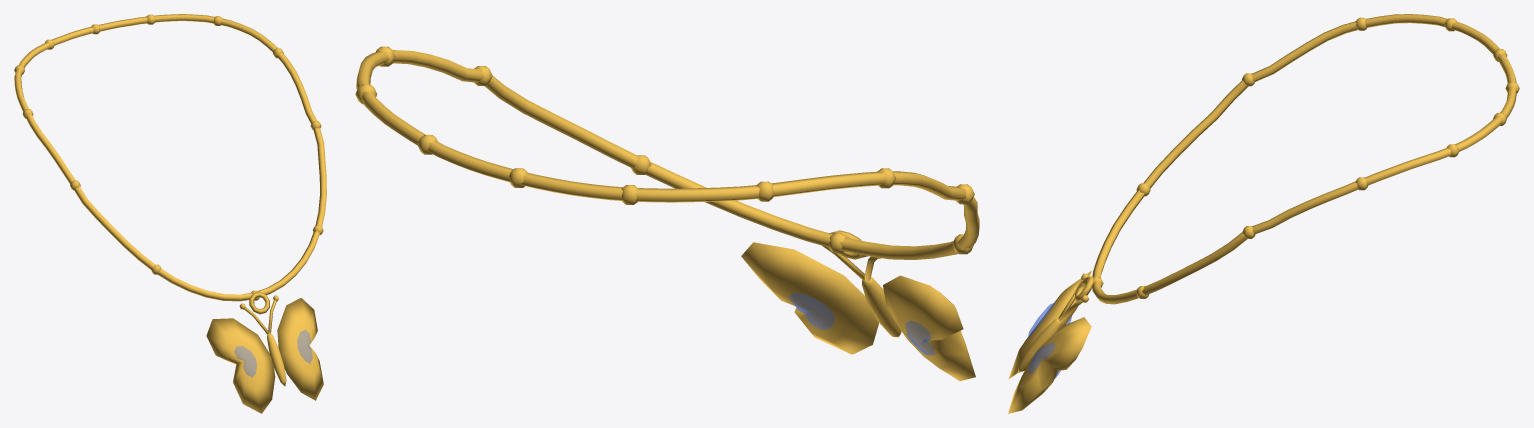
File: butterfly_necklace.glb
3 views of the same model, side by side, from view 1: azimuth 30°, elevation 25°; view 2: azimuth 150°, elevation 25°; view 3: azimuth 270°, elevation 25° (orthographic). The views are drawn at different scales.
Visible parts, largest first — view 1: butterfly_necklace; view 2: butterfly_necklace; view 3: butterfly_necklace.
Boxes of the visible parts, box(x1,y1,x2,y2) form: butterfly_necklace: box(14, 14, 326, 413); butterfly_necklace: box(355, 46, 979, 381); butterfly_necklace: box(1008, 14, 1519, 413).
Size of the model in its own units: 0.0893 by 0.0799 by 0.1172.
